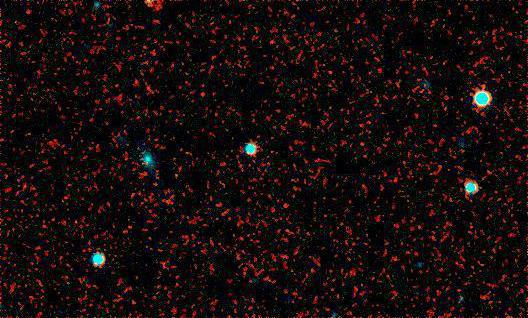star: (164, 159, 194, 189)
